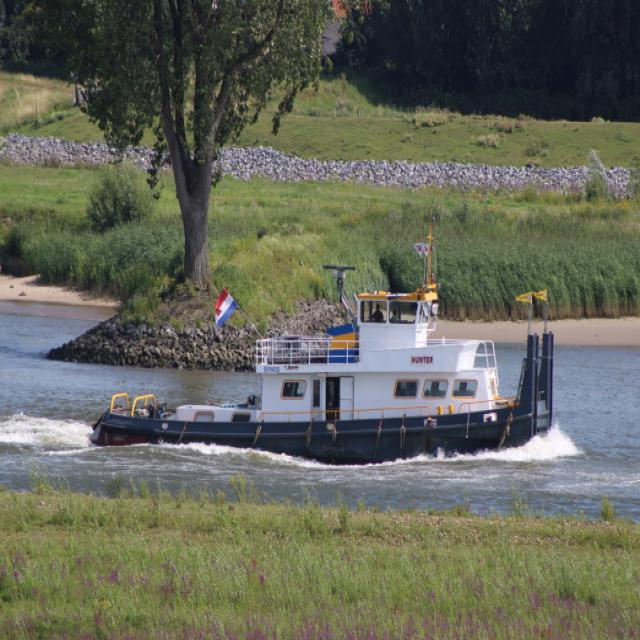tugboat: (88, 261, 557, 472)
